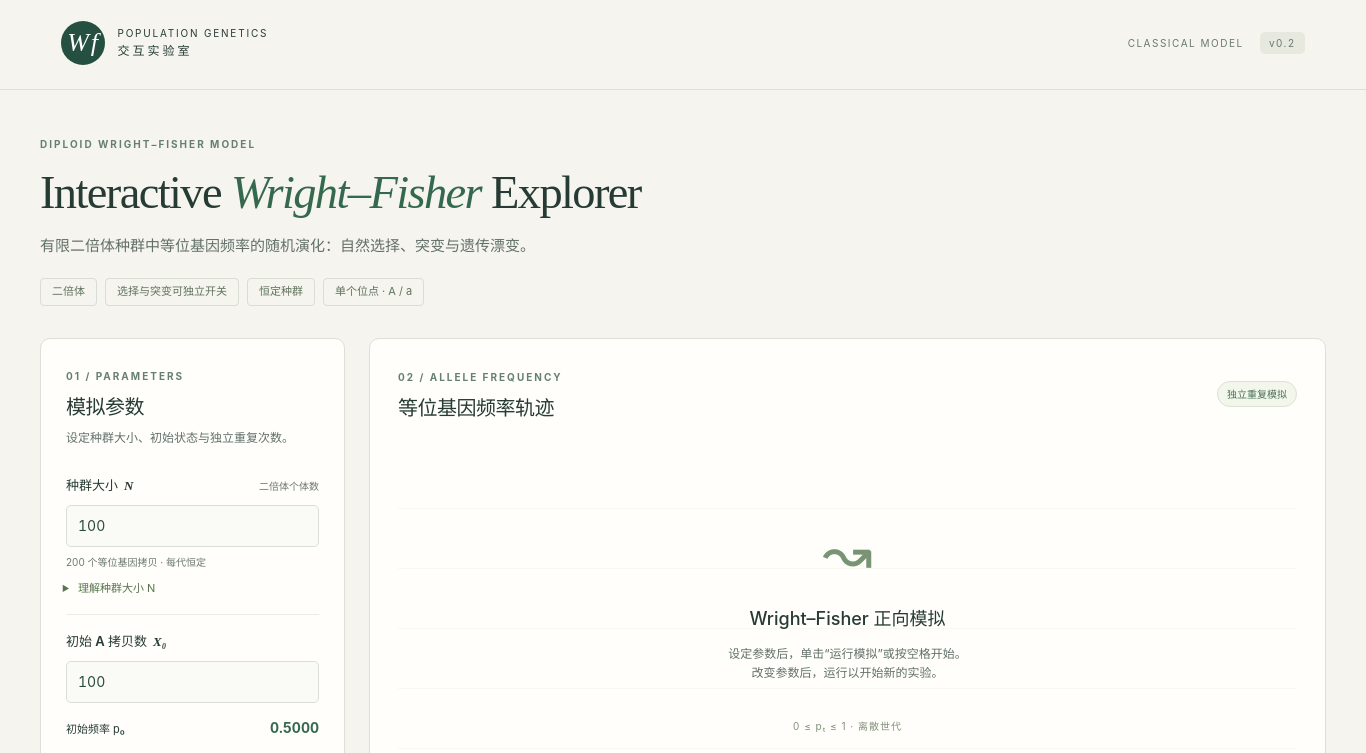
Scenario: teaching experiment › does not silently coerce invalid counts after changing N
The image size is (1366, 753).
Replace the text in the number field labelled "种群大小 N 二倍体个体数" with "10": (192, 526) top-left (66, 505), bottom-right (319, 547)
(page scrolled)
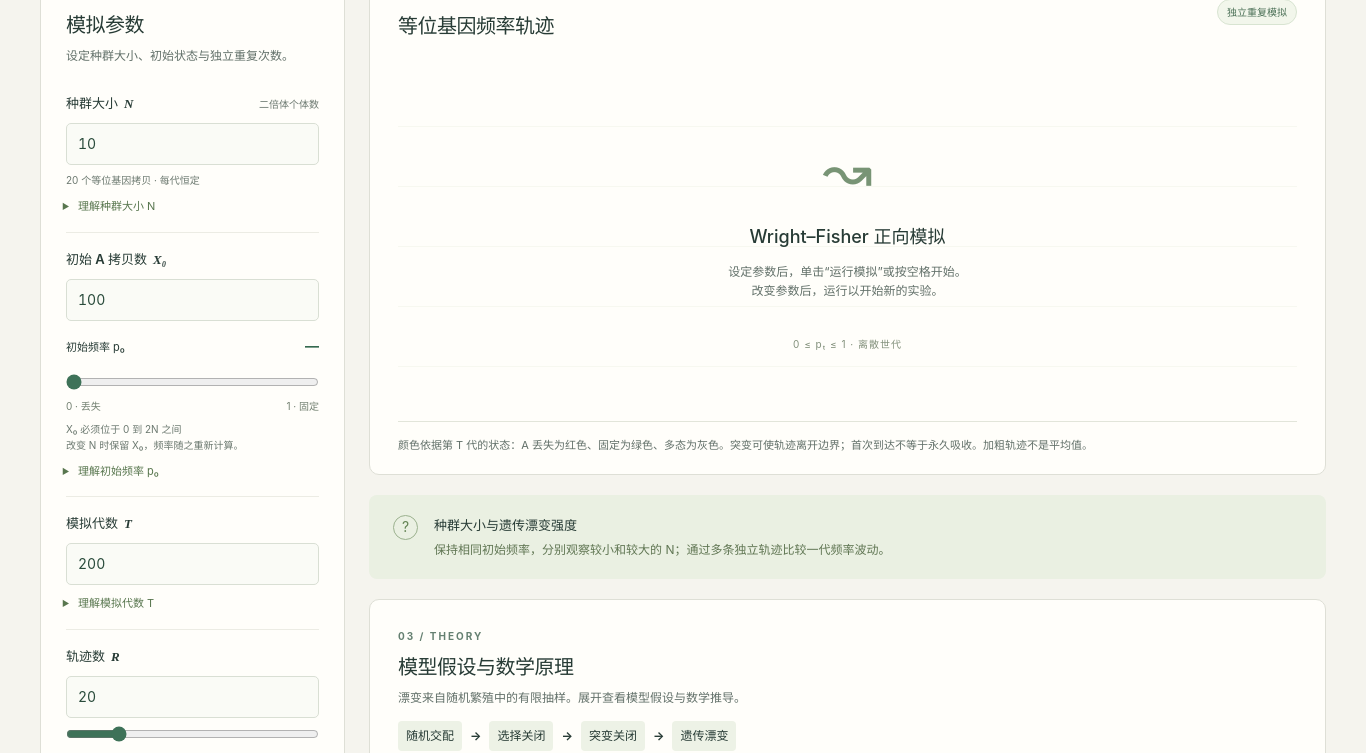
Expected: the number field labelled "初始 A 拷贝数 X₀" holds "100", top-left (66, 279), bottom-right (319, 321)
Set the slider labelled "初始频率 p₀ —" to "10": (192, 382) top-left (66, 374), bottom-right (319, 390)
(page scrolled)
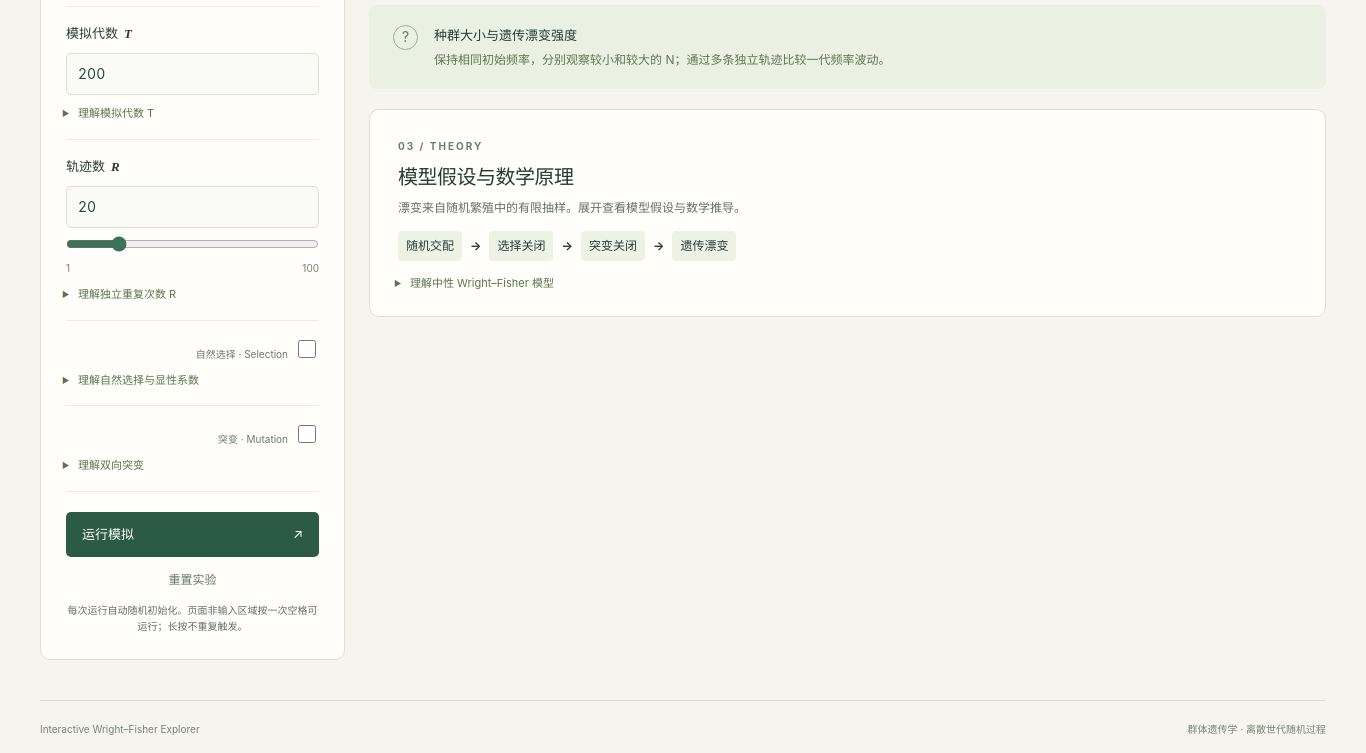
Expected: the button "运行模拟 ↗" is enabled, top-left (66, 512), bottom-right (319, 557)
